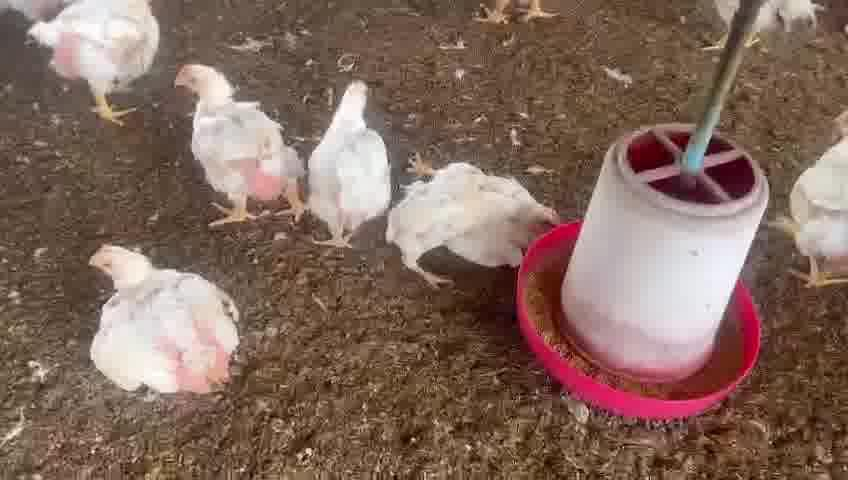AbNormal: (90, 245, 238, 389), (394, 150, 550, 279), (30, 1, 167, 126)
Normal: (172, 67, 306, 226), (311, 77, 392, 247), (789, 112, 848, 288)
